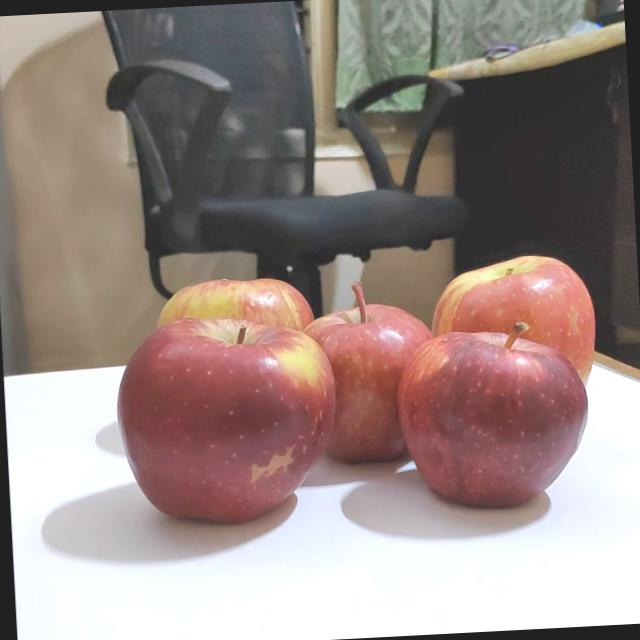apple: (112, 308, 352, 531), (402, 318, 606, 511), (299, 275, 460, 470), (429, 249, 606, 413), (148, 270, 326, 404)
